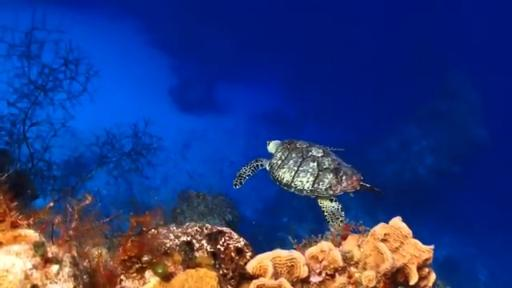Fish: (233, 140, 379, 229)
